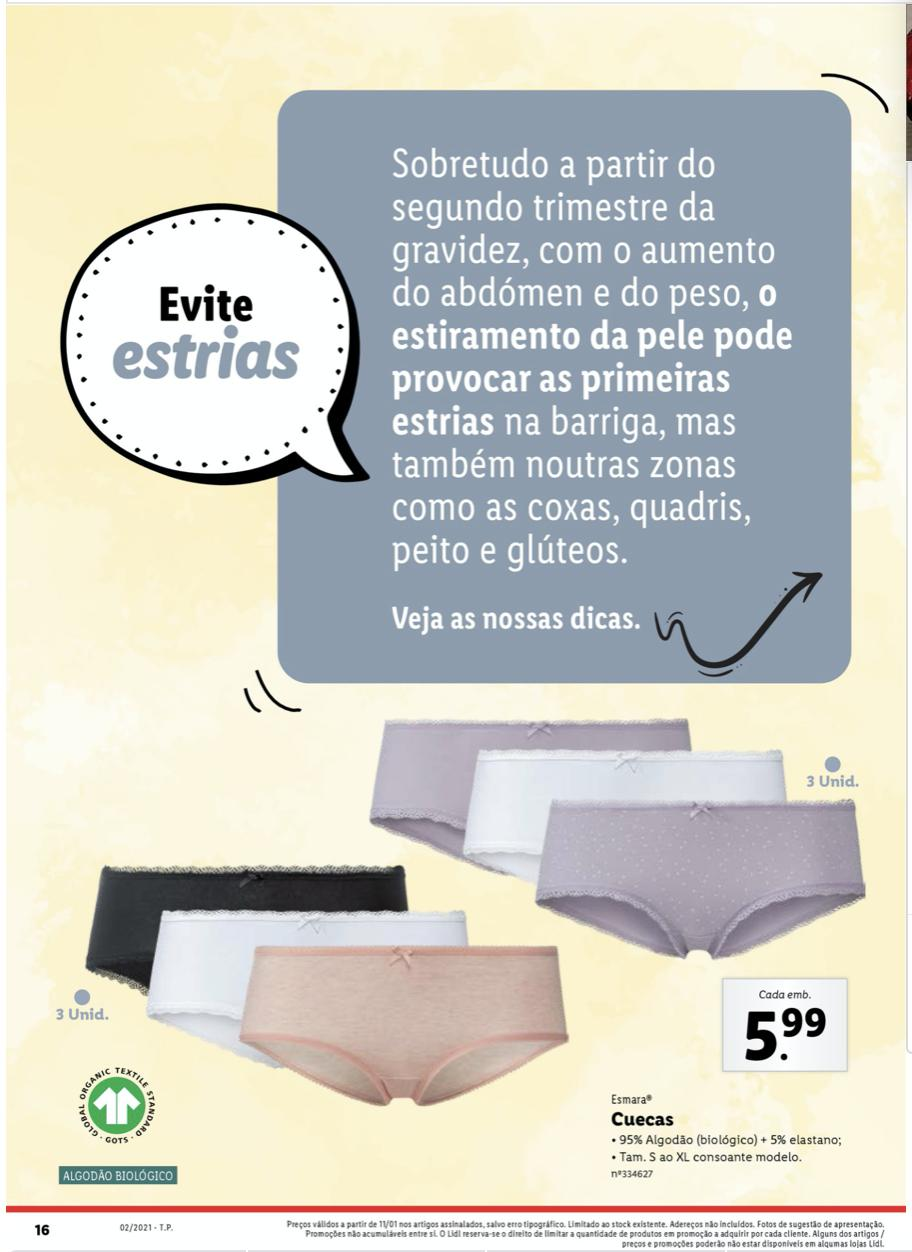name: (607, 1106, 679, 1131)
price: (740, 1003, 837, 1072)
product: (27, 711, 884, 1195)
